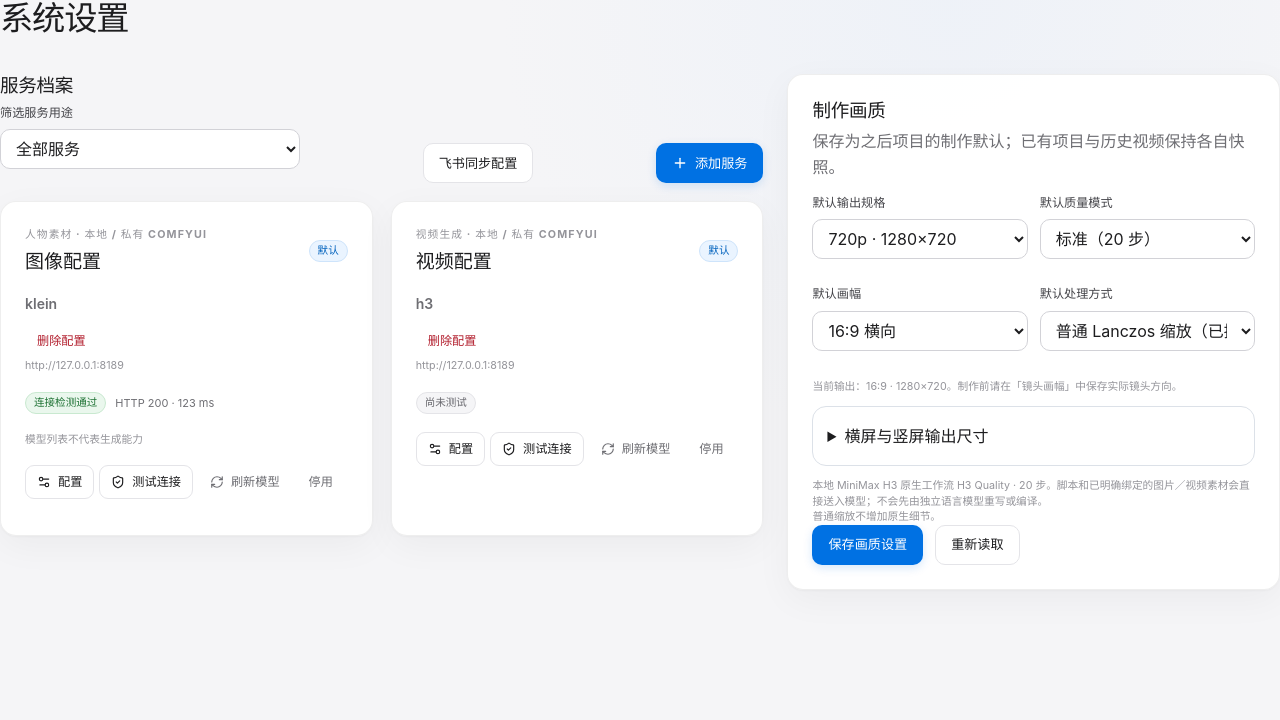
Test case: shows the video API contract and provider limits before advanced settings
Expected: the heading "图像配置" is shown, x1=25 y1=250 x2=101 y2=273
Click the button "添加服务". click: (710, 163)
box: x1=656 y1=143 x2=764 y2=183
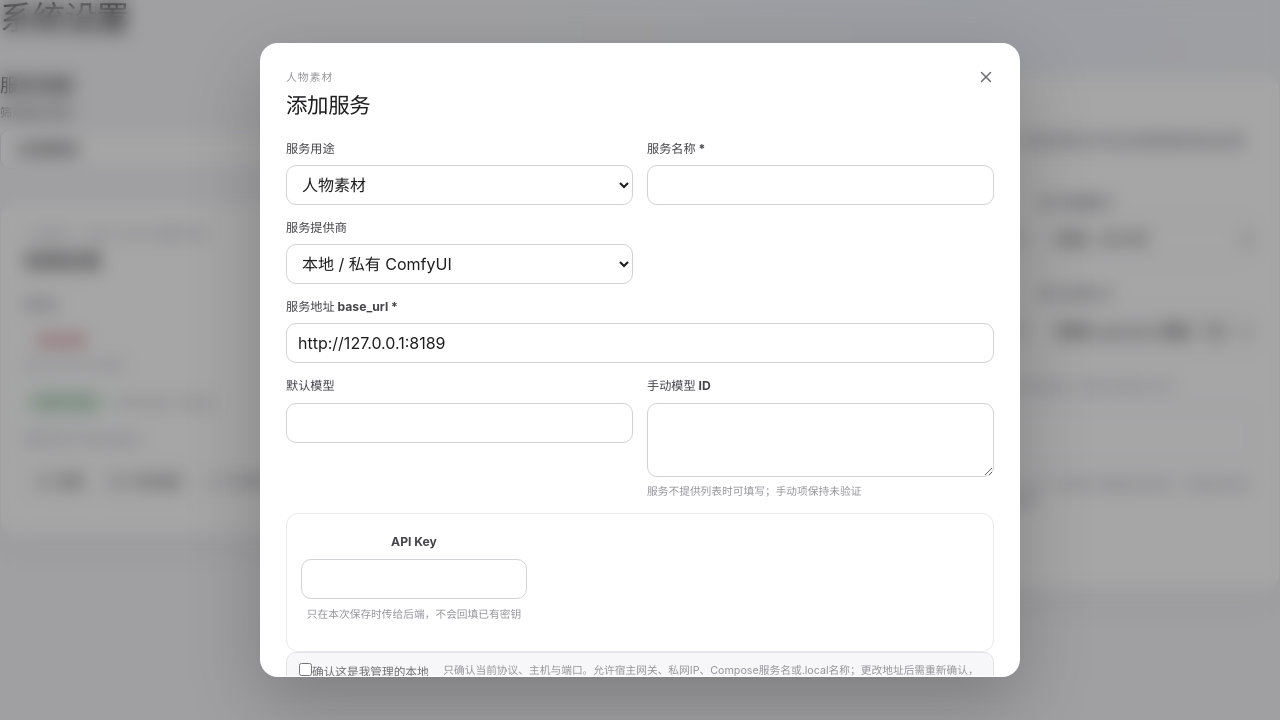
Select "视频生成" in the dropdown labelled "服务用途". click: (460, 185)
box: x1=286 y1=165 x2=633 y2=205
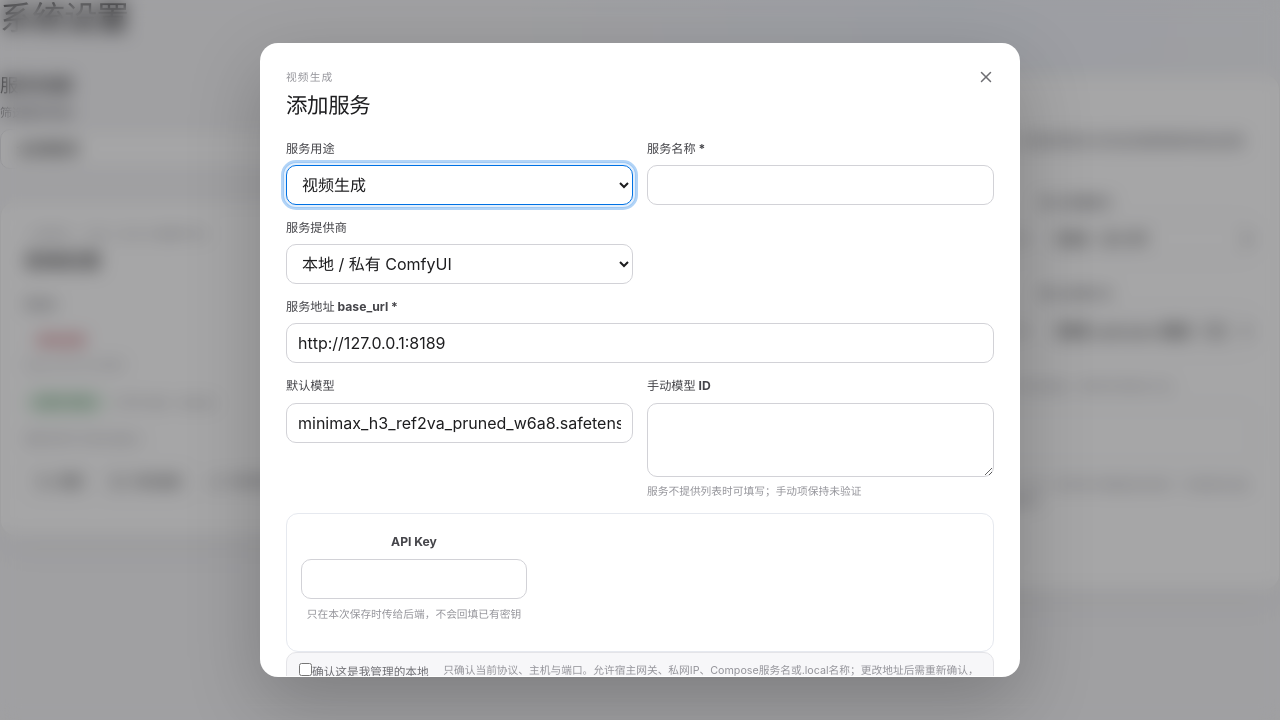
Select "自定义视频任务 API" in the dropdown labelled "服务提供商". click: (460, 264)
box: x1=286 y1=244 x2=633 y2=284
(page scrolled)
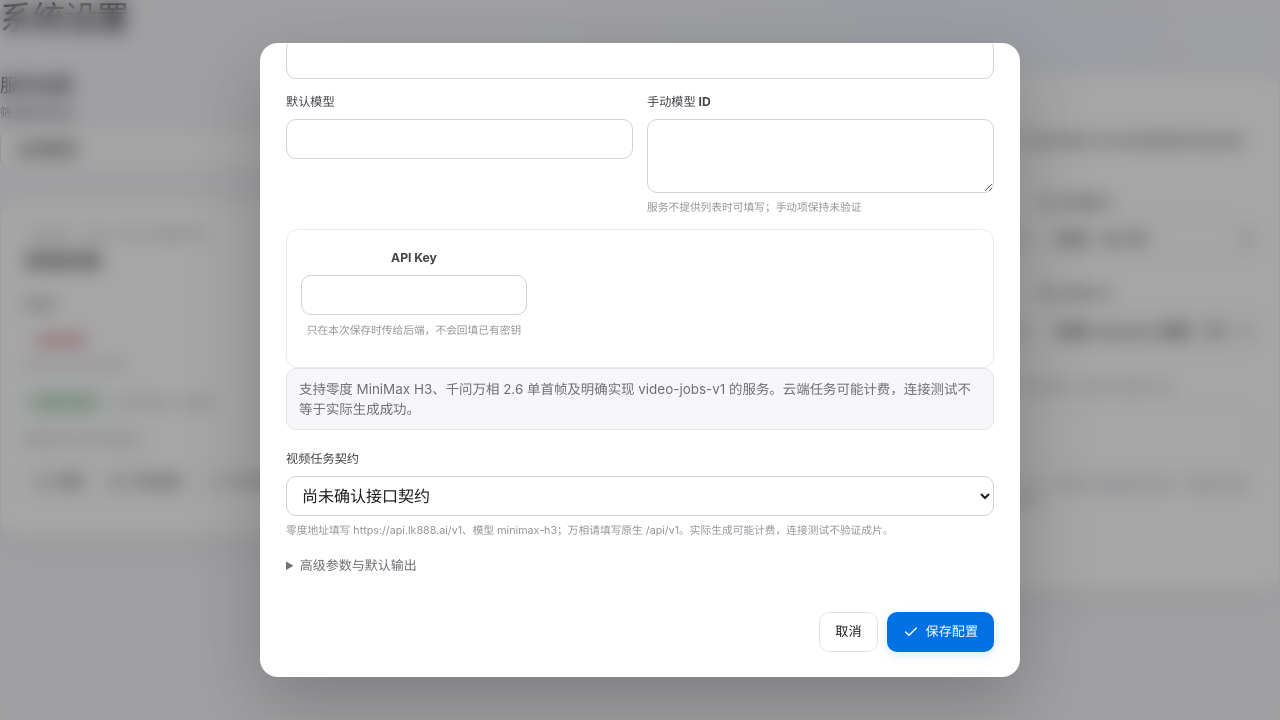
Expected: the text "支持零度 MiniMax H3、千问万相 2.6 单首帧及明确实现 video-jobs-v1" is shown, x1=299 y1=381 x2=971 y2=417
Expected: the dropdown labelled "视频任务契约" is shown
Select "video-jobs-v1 · 自定义 JSON 任务接口" in the dropdown labelled "视频任务契约". click: (640, 496)
box: x1=286 y1=476 x2=994 y2=516
(page scrolled)
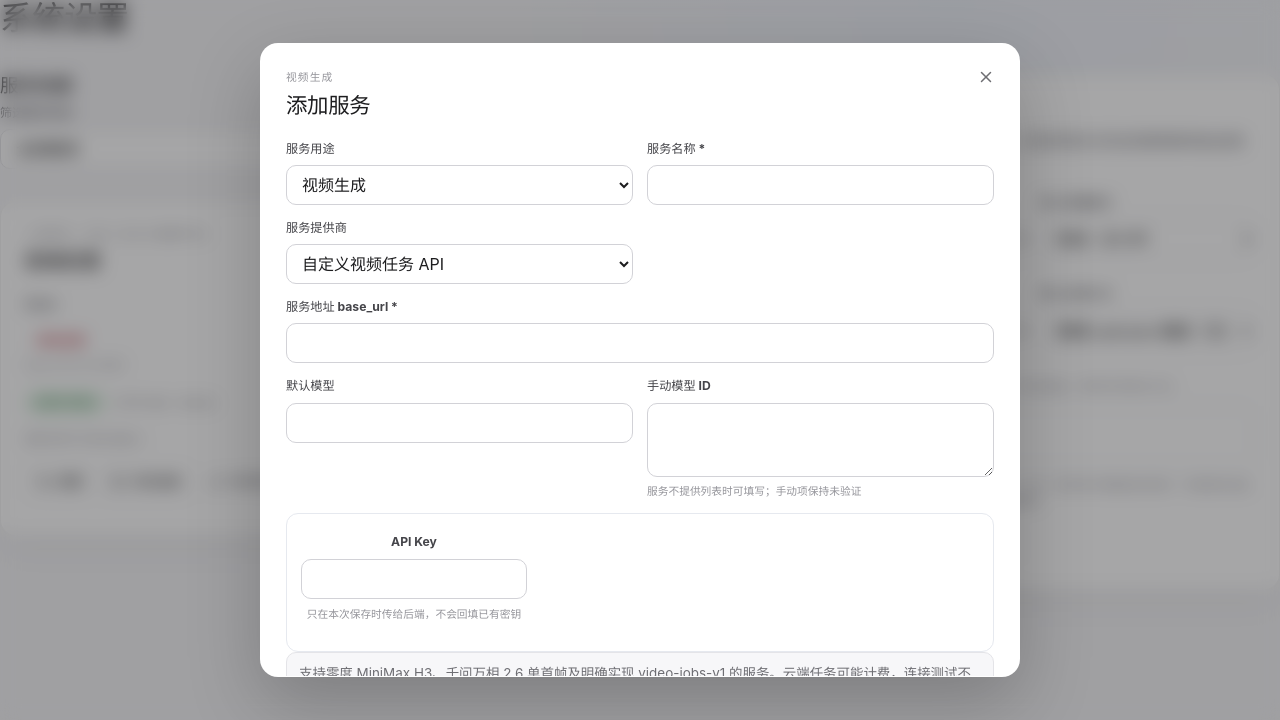
Select "云端供应商草稿（未接入）" in the dropdown labelled "服务提供商". click: (460, 264)
box: x1=286 y1=244 x2=633 y2=284
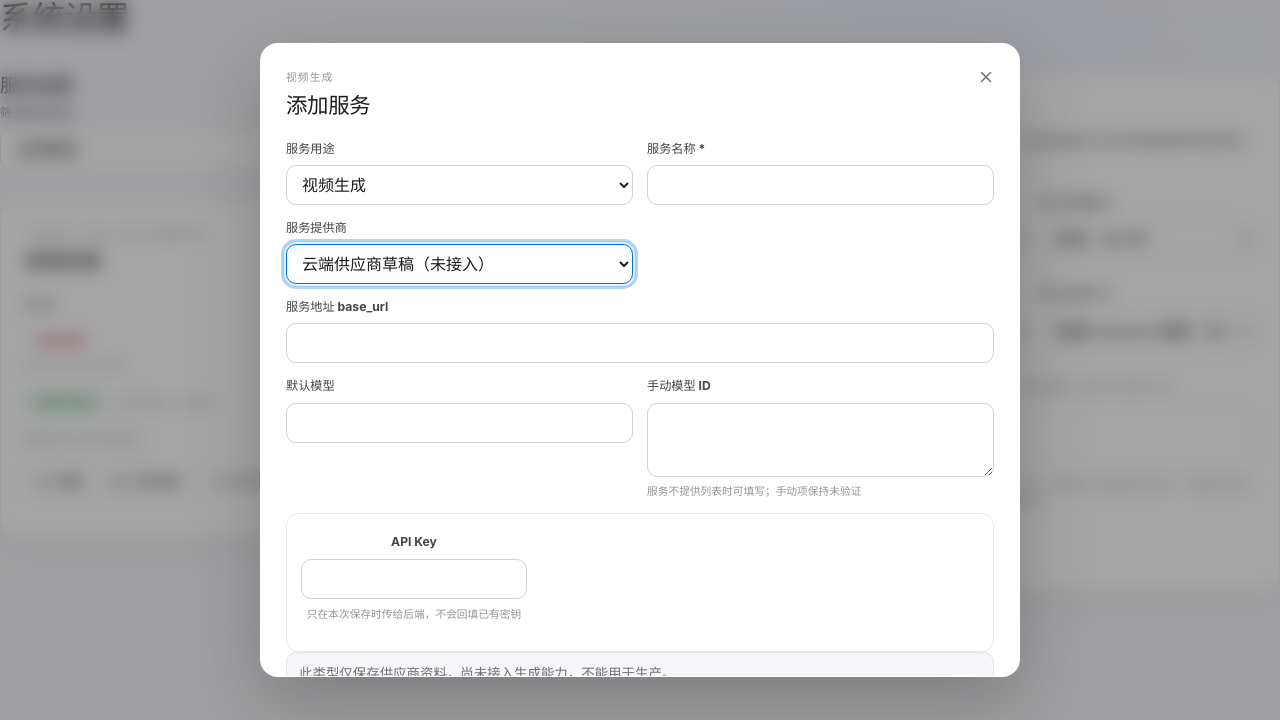
Expected: the text "此类型仅保存供应商资料，尚未接入生成能力，不能用于生产。" is shown, x1=299 y1=665 x2=675 y2=677
